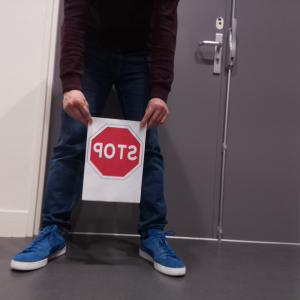stop: (89, 124, 142, 178)
